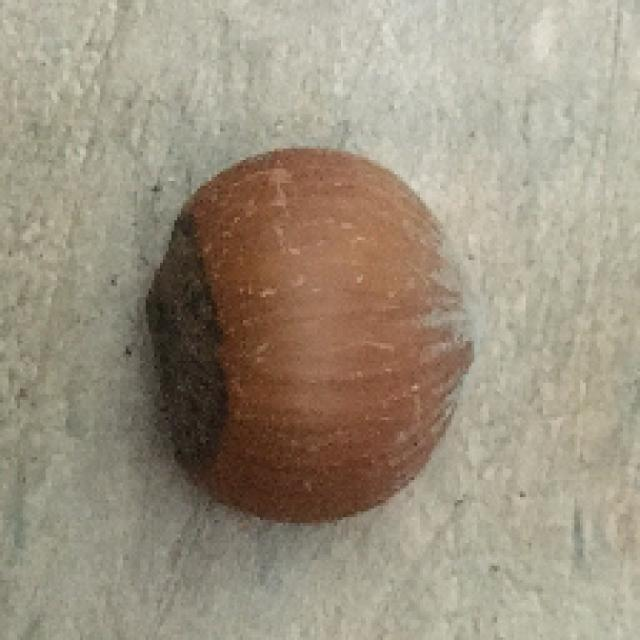qualityHazelnut: (150, 143, 480, 534)
